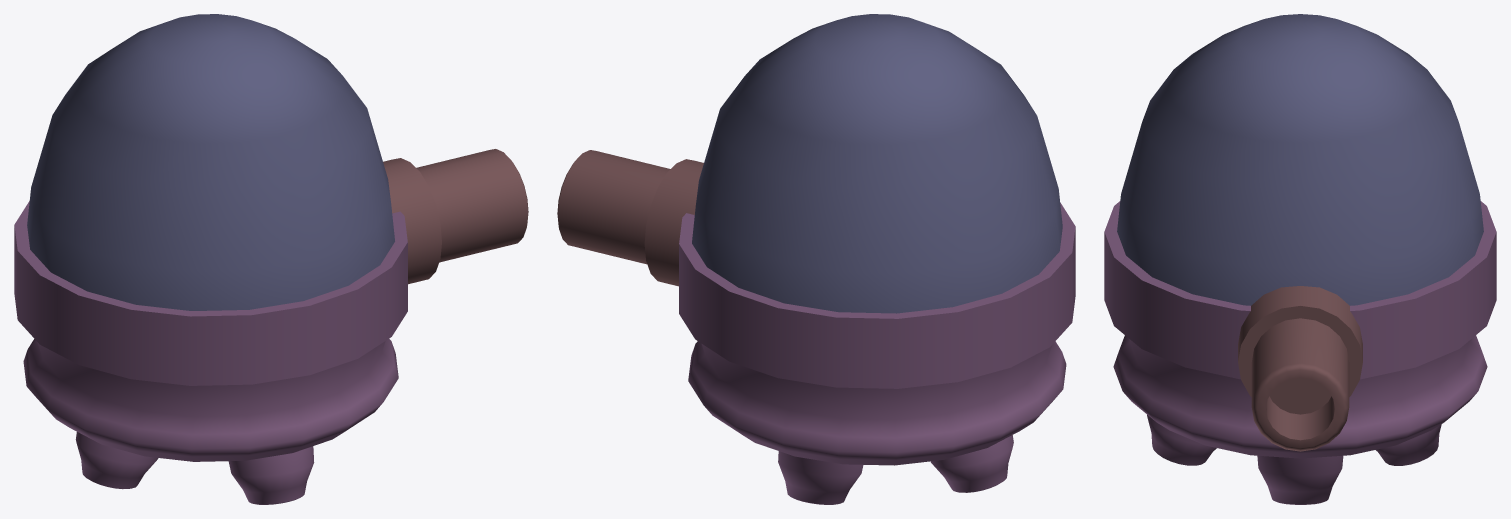
File: Mesh_EnemyBasic_Basic.fbx
3 views of the same model, side by side, from view 1: azimuth 30°, elevation 25°; view 2: azimuth 150°, elevation 25°; view 3: azimuth 270°, elevation 25° (orthographic).
Parts seen in each view (by area): view 1: polySurface2, pCylinder9, polySurface1, pCylinder12, pCylinder10, pCylinder8; view 2: polySurface2, pCylinder9, polySurface1, pCylinder12, pCylinder10, pCylinder8; view 3: polySurface2, pCylinder9, polySurface1, pCylinder12, pCylinder10, pCylinder8.
Boxes of the visible parts, x1,y1,x2,y2 form: polySurface2: (27, 14, 394, 310); pCylinder9: (14, 201, 407, 385); polySurface1: (23, 338, 398, 461); pCylinder12: (416, 149, 528, 262); pCylinder10: (75, 432, 314, 504); pCylinder8: (383, 158, 441, 284); polySurface2: (692, 14, 1062, 313); pCylinder9: (679, 203, 1075, 388); polySurface1: (688, 341, 1066, 465); pCylinder12: (557, 150, 670, 264); pCylinder10: (778, 435, 1013, 504); pCylinder8: (644, 159, 703, 286); polySurface2: (1117, 14, 1483, 305); pCylinder9: (1104, 201, 1496, 379); polySurface1: (1113, 335, 1487, 458); pCylinder12: (1251, 318, 1349, 451); pCylinder10: (1147, 415, 1441, 504); pCylinder8: (1238, 286, 1362, 396).
Size of the model in its own units: 286 by 250 by 210.
